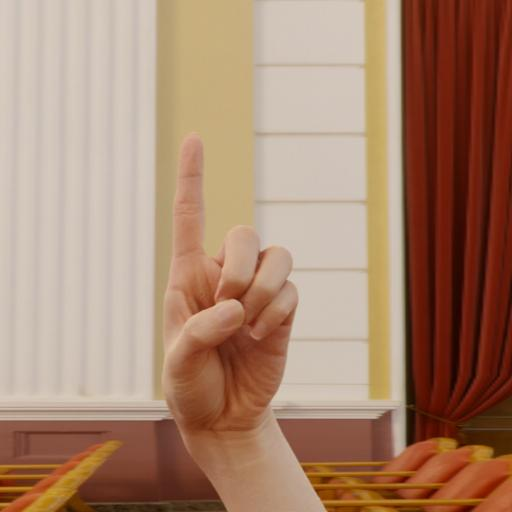D: (136, 117, 318, 463)
